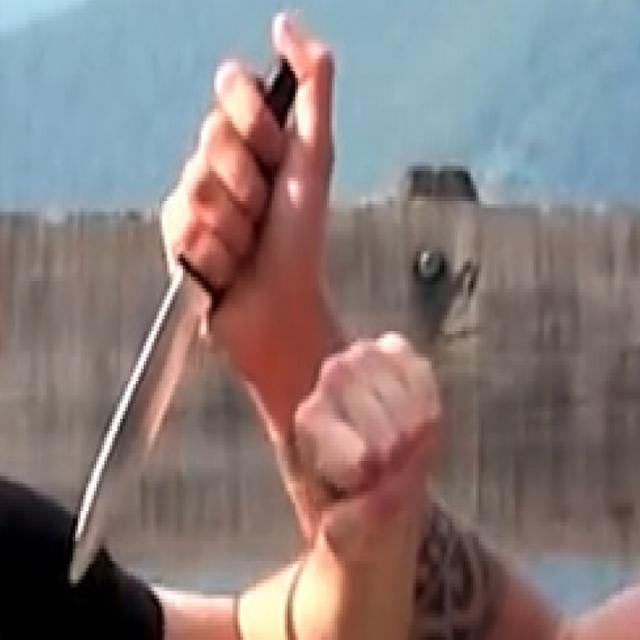suspicion: (59, 7, 633, 630), (68, 48, 302, 589)
